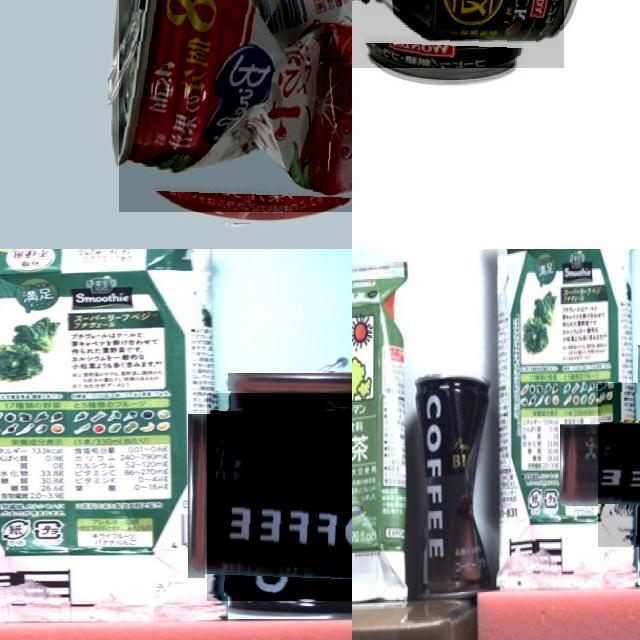Aluminium Foil: (0, 249, 233, 622), (492, 249, 636, 589), (352, 259, 404, 607)
Can: (118, 0, 352, 211), (206, 392, 352, 600), (410, 368, 490, 595), (352, 0, 563, 67), (597, 382, 640, 546)
